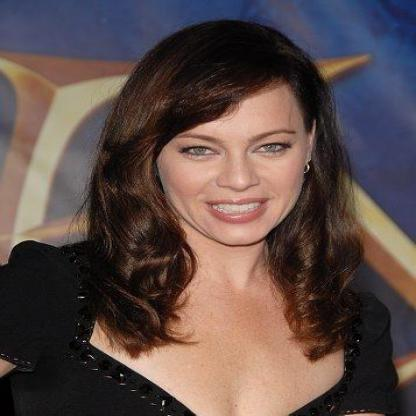long-hair: (71, 246, 365, 280)
